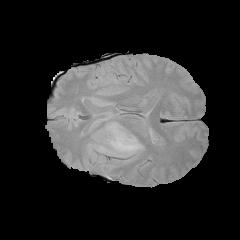glioma: (94, 125, 146, 165)
